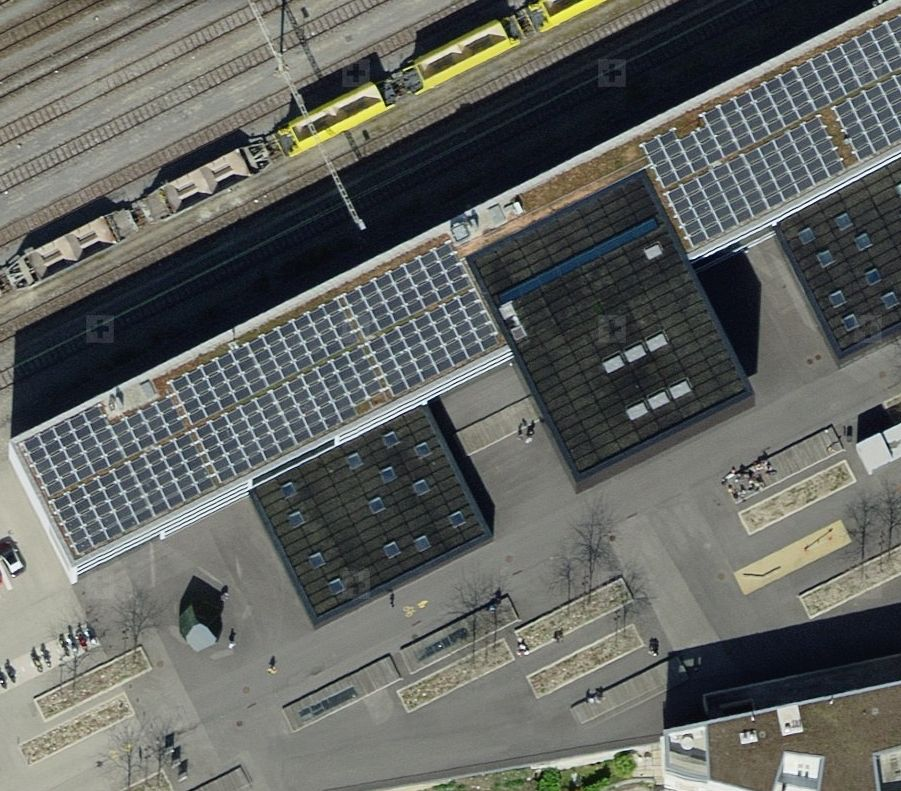solar: (21, 239, 505, 563), (640, 18, 901, 250)
